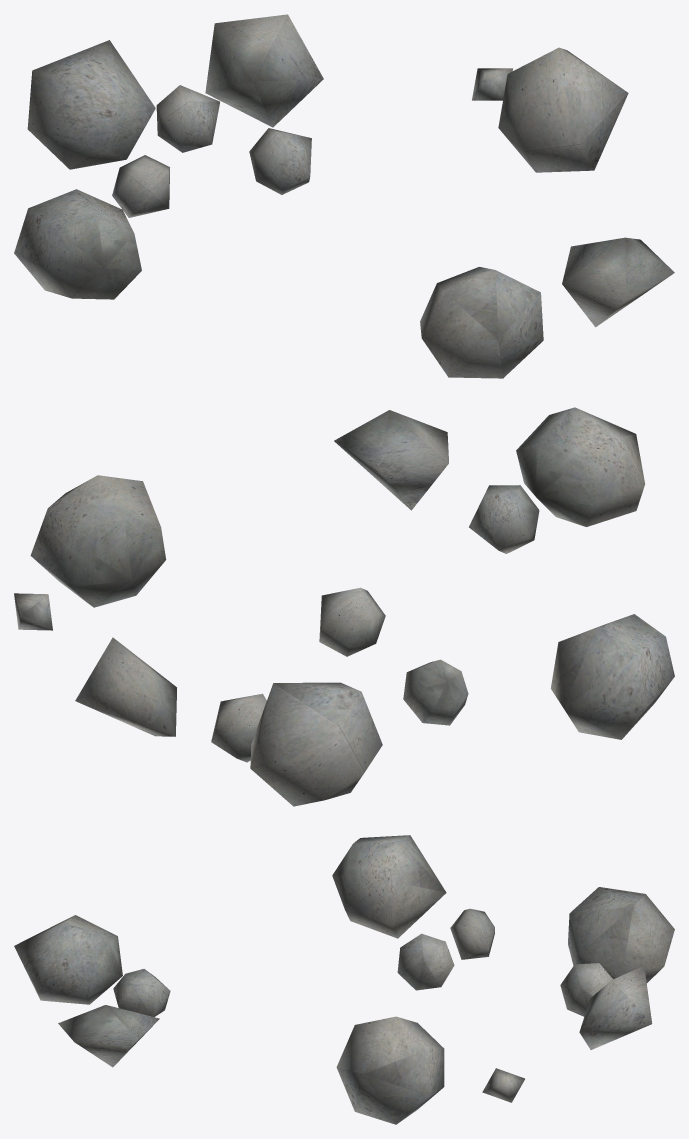
The model's file is stone_effect18.obj.
3 views of the same model, one above another, from view 1: azimuth 30°, elevation 25°; view 2: azimuth 150°, elevation 25°; view 3: azimuth 270°, elevation 25° (orthographic). The views are drawn at different scales.
Parts seen in each view (by area): view 1: Sphere011; view 2: Sphere011; view 3: Sphere011.
Boxes of the visible parts, box(x1,y1,x2,y2) form: Sphere011: box(14, 14, 674, 378); Sphere011: box(14, 407, 674, 806); Sphere011: box(14, 835, 674, 1124).
Bounding box in the file's own units: 253 × 54.73 × 294.
Materials: 1 (1 with a texture image).
